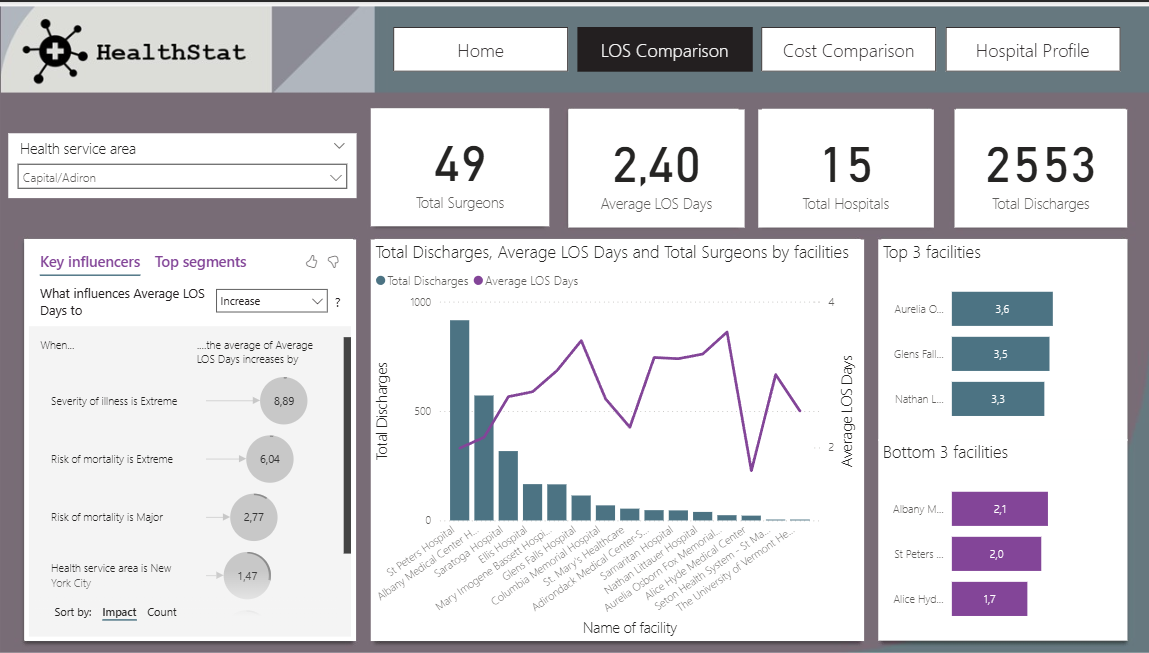

This screenshot's page, from the dashboard's own definition file:
{"tool":"powerbi","page":{"name":"LOS Comparison","canvas":[1280,720],"ordinal":1},"visuals":[{"type":"image","box":[0,0,1280,719.8],"z":0},{"type":"lineStackedColumnComboChart","title":"Total Discharges, Average LOS Days and Total Surgeons by facilities","fields":{"Category":["hospital_discharges.facility_name"],"Y":["_Measures.Total Discharges"],"Y2":["_Measures.Average LOS Days"]},"box":[416.1,260.5,541.3,441],"z":1000},{"type":"card","fields":{"Values":["_Measures.Total Surgeons"]},"box":[416.1,117.3,196.2,129.7],"z":2000},{"type":"slicer","fields":{"Values":["hospital_discharges.health_service_area"]},"box":[17.5,144,382.2,71],"z":3000},{"type":"clusteredBarChart","title":"Top 3 facilities","fields":{"Y":["_Measures.Average LOS Days"],"Category":["hospital_discharges.facility_name"]},"box":[972.6,260.7,273.3,220.8],"z":4000},{"type":"clusteredBarChart","title":"Bottom 3 facilities","fields":{"Y":["_Measures.Average LOS Days"],"Category":["hospital_discharges.facility_name"]},"box":[972.6,480.5,273.3,220.8],"z":5000},{"type":"card","fields":{"Values":["_Measures.Average LOS Days"]},"box":[633.2,117.7,193.6,129.4],"z":6000},{"type":"card","fields":{"Values":["_Measures.Total Hospitals"]},"box":[841.3,117.7,192.6,129.4],"z":7000},{"type":"card","fields":{"Values":["_Measures.Total Discharges"]},"box":[1056.3,117.7,189.7,129.4],"z":8000},{"type":"keyDriversVisual","fields":{"Target":["_Measures.Average LOS Days"],"ExplainBy":["hospital_discharges.apr_risk_of_mortality","hospital_discharges.apr_severity_of_illness_description","hospital_discharges.ccs_diagnosis_description","hospital_discharges.patient_disposition","hospital_discharges.gender","hospital_discharges.age_group","surgical_program_volume_summary.Surgical Program Size","hospital_discharges.health_service_area"]},"box":[36,260.7,363.8,440.6],"z":9000},{"type":"pageNavigator","box":[440.6,27.2,800.5,49.6],"z":10000}]}

Visuals, with their boxes in screenshot pixels (x1, y1, x2, y2), scaled from the page's 1280x720 canvas onto the 1149x653 screenshot:
image: bbox(0, 0, 1148, 652)
"Total Discharges, Average LOS Days and Total Surgeons by facilities" lineStackedColumnComboChart: bbox(374, 236, 859, 636)
card - _Measures.Total Surgeons: bbox(374, 106, 550, 224)
slicer - hospital_discharges.health_service_area: bbox(16, 131, 359, 195)
"Top 3 facilities" clusteredBarChart: bbox(873, 236, 1118, 437)
"Bottom 3 facilities" clusteredBarChart: bbox(873, 436, 1118, 636)
card - _Measures.Average LOS Days: bbox(568, 107, 742, 224)
card - _Measures.Total Hospitals: bbox(755, 107, 928, 224)
card - _Measures.Total Discharges: bbox(948, 107, 1118, 224)
keyDriversVisual - _Measures.Average LOS Days x hospital_discharges.apr_risk_of_mortality: bbox(32, 236, 359, 636)
pageNavigator: bbox(396, 25, 1114, 70)
